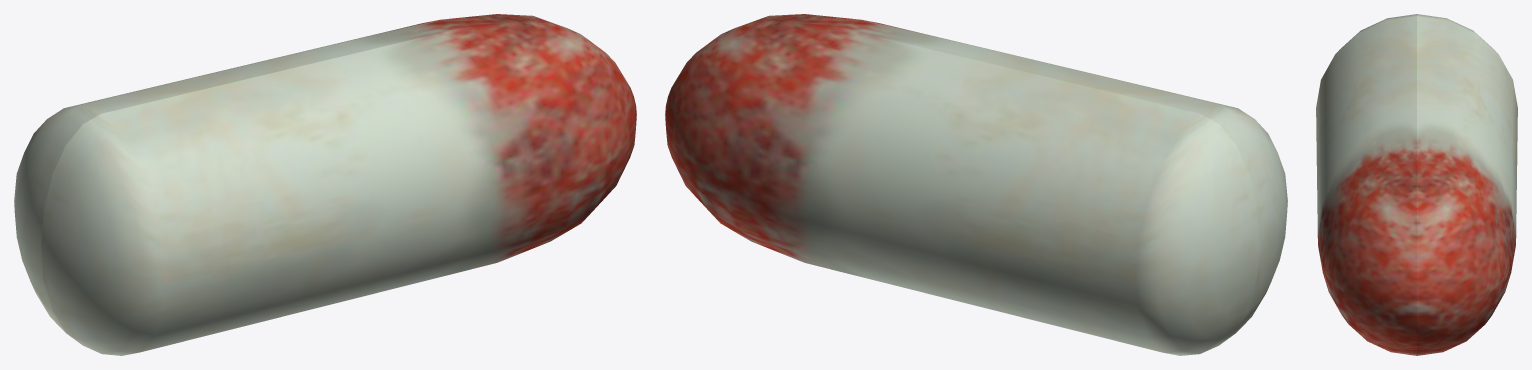
File: Floaty.fbx
3 views of the same model, side by side, from view 1: azimuth 30°, elevation 25°; view 2: azimuth 150°, elevation 25°; view 3: azimuth 270°, elevation 25° (orthographic). The views are drawn at different scales.
Visible parts, largest first — view 1: Floaty; view 2: Floaty; view 3: Floaty.
Boxes of the visible parts, x1,y1,x2,y2 form: Floaty: (14,14,636,355); Floaty: (665,14,1287,355); Floaty: (1316,14,1517,355).
Bounding box in the file's own units: 50.96 × 19.41 × 19.41.
